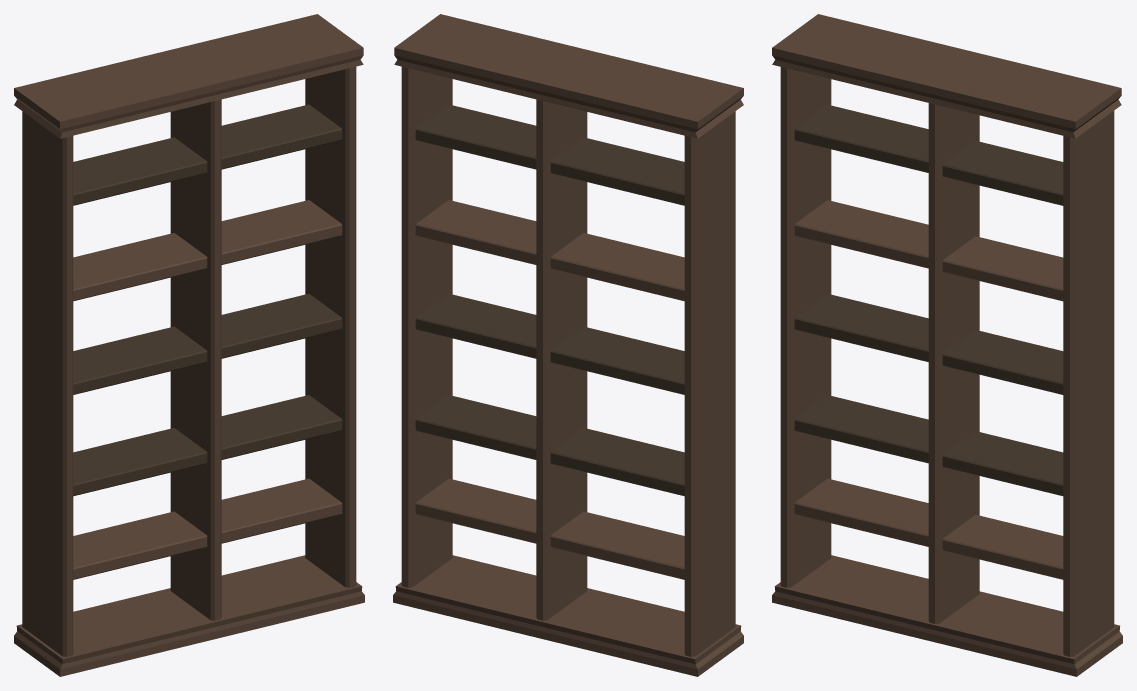
The model's file is Cupboard_5.fbx.
3 renders of one model, left to right at view 1: azimuth 30°, elevation 25°; view 2: azimuth 150°, elevation 25°; view 3: azimuth 330°, elevation 25°, orthographic.
Parts seen in each view (by area): view 1: polySurface2958; view 2: polySurface2958; view 3: polySurface2958.
Part boxes in pixels (bbox=[...]): polySurface2958: bbox=[14, 14, 364, 676]; polySurface2958: bbox=[393, 14, 743, 676]; polySurface2958: bbox=[772, 14, 1122, 676].
Size of the model in its own units: 204 by 354 by 53.36.
